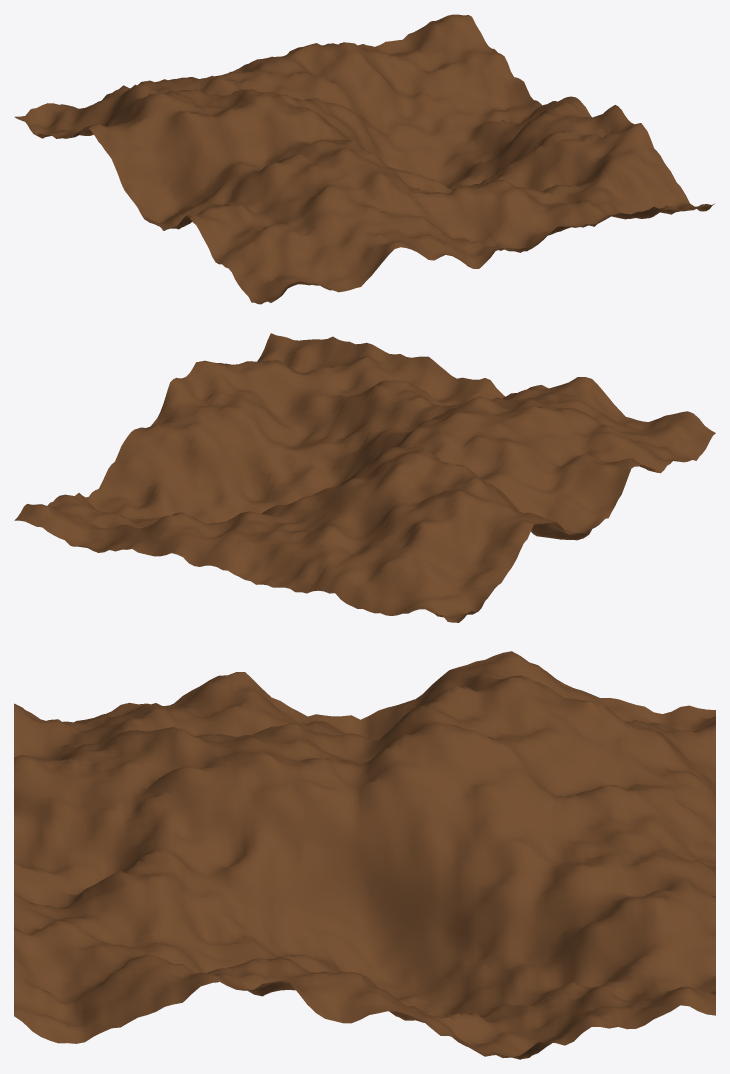
File: HugeLandscape.fbx
3 views of the same model, one above another, from view 1: azimuth 30°, elevation 25°; view 2: azimuth 150°, elevation 25°; view 3: azimuth 270°, elevation 25° (orthographic). The views are drawn at different scales.
Parts seen in each view (by area): view 1: Grid; view 2: Grid; view 3: Grid.
Part boxes in pixels (x1,y1,x2,y2): Grid: (14,14,714,304); Grid: (14,333,715,622); Grid: (14,651,715,1059).
Bounding box in the file's own units: 8000 × 2223 × 8000.
